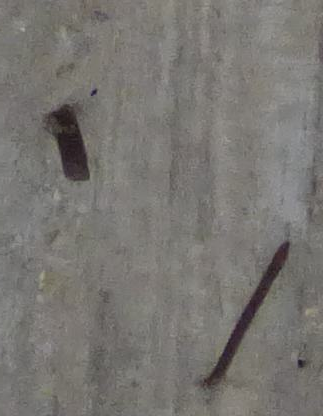Exposed reinforcement: (205, 241, 290, 385), (51, 105, 91, 182)
